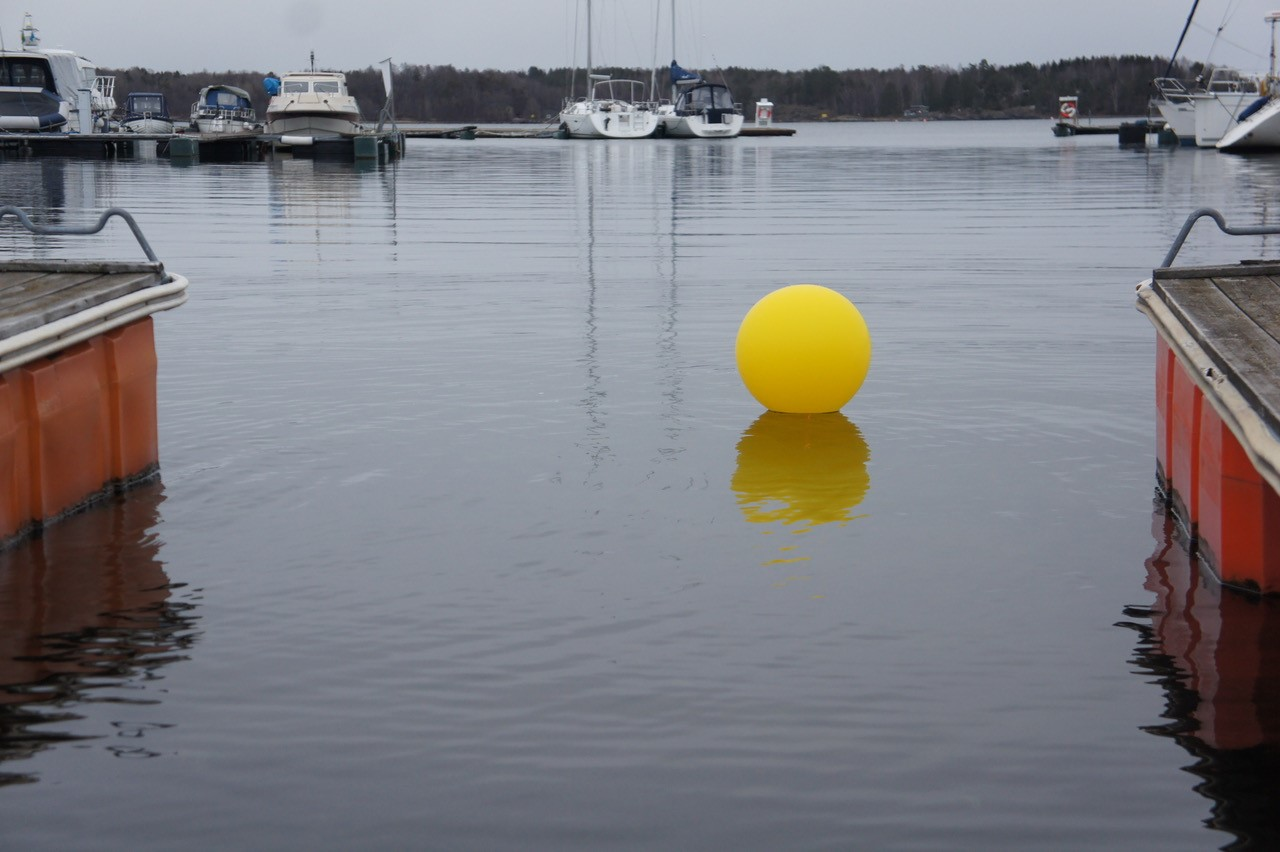yellow: (734, 285, 873, 415)
